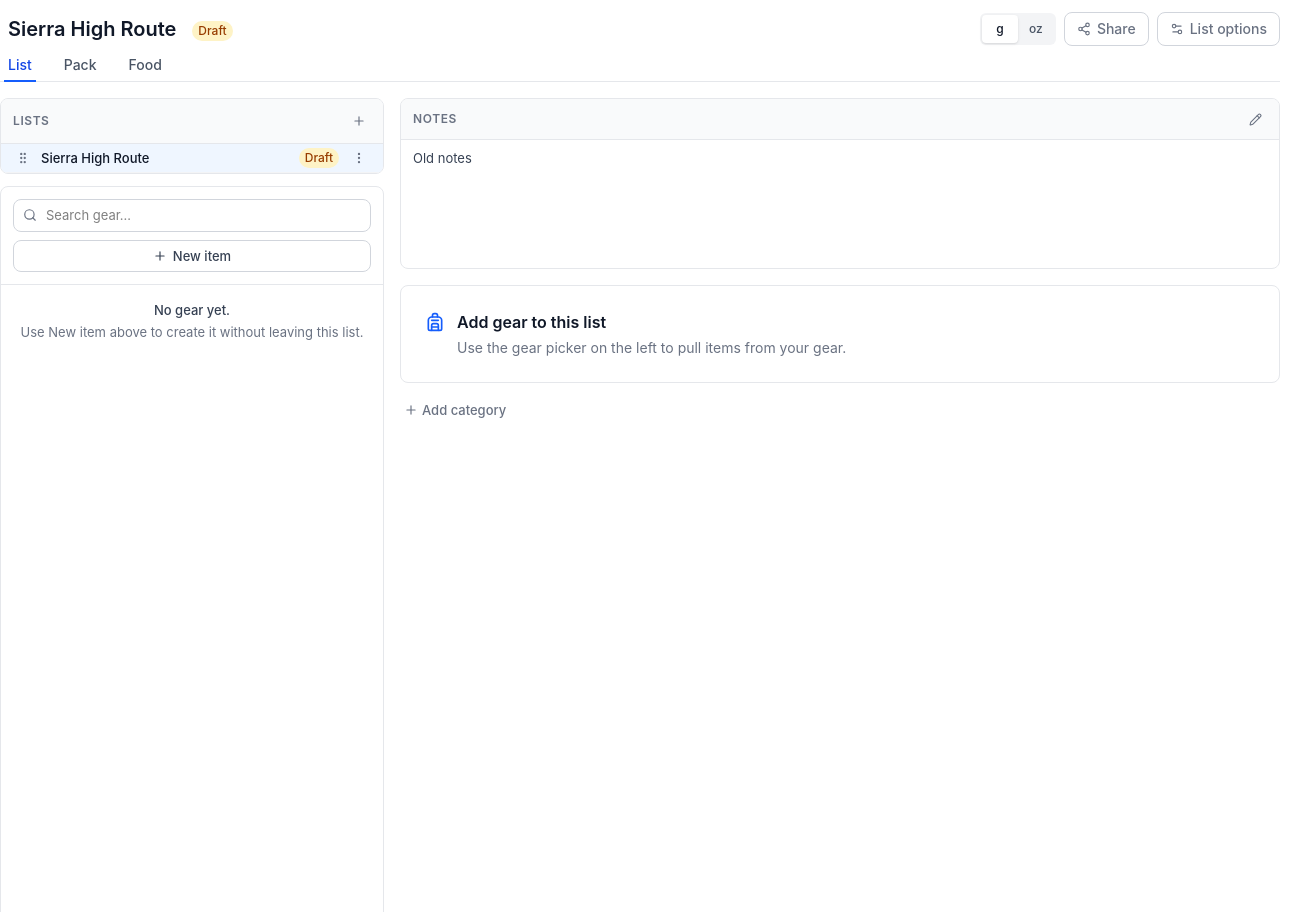
saving list notes › keeps the editor open with the typed text, and says so, when the save fails
The image size is (1292, 912).
Click the button named "Edit notes" at (1255, 119), box [1243,107,1267,131]
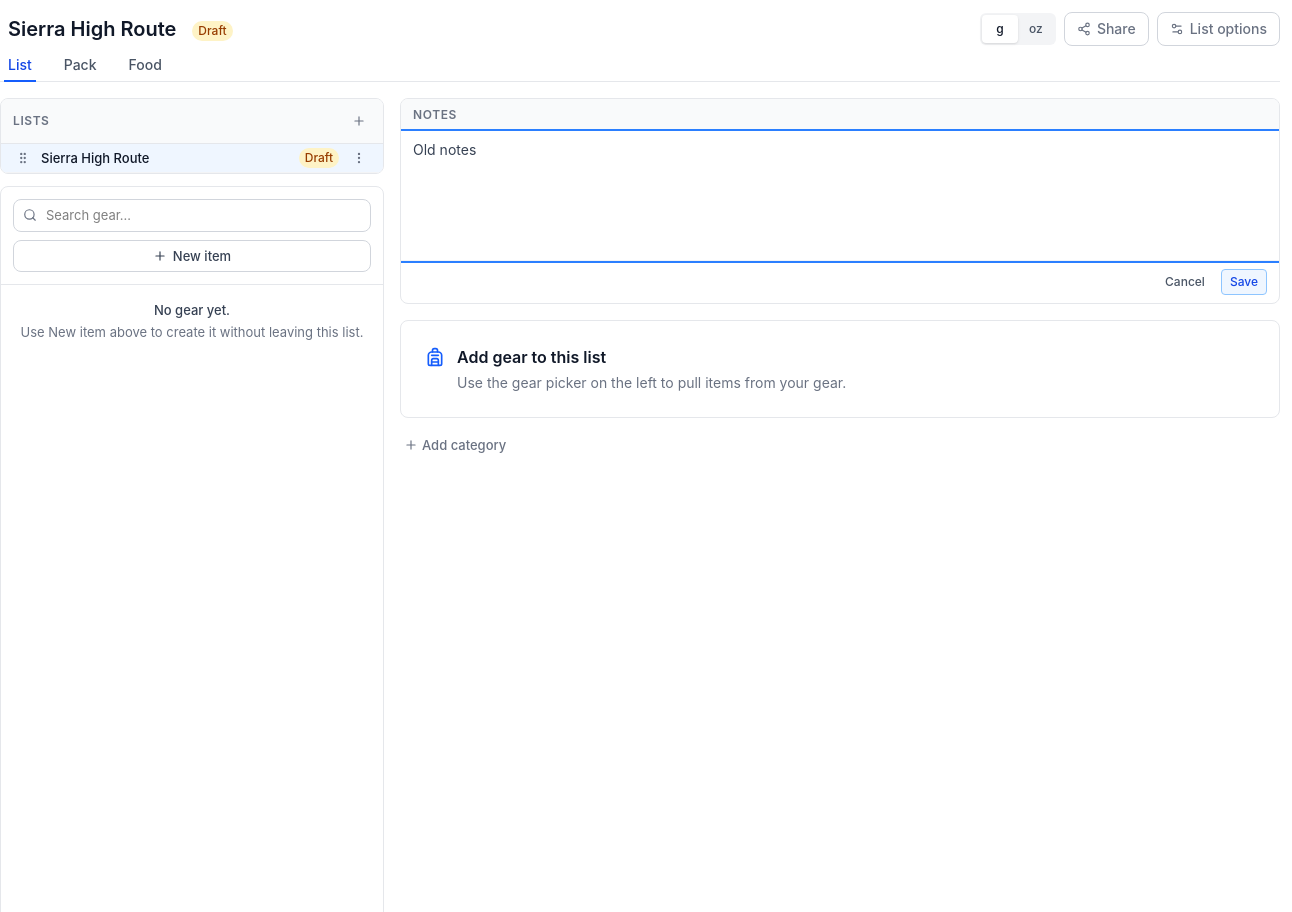
Replace the text in the text box with placeholder "Add notes about this packing list. Markdown supported." with "Permit pickup at Lone Pine" at (840, 196), box [401,132,1279,260]
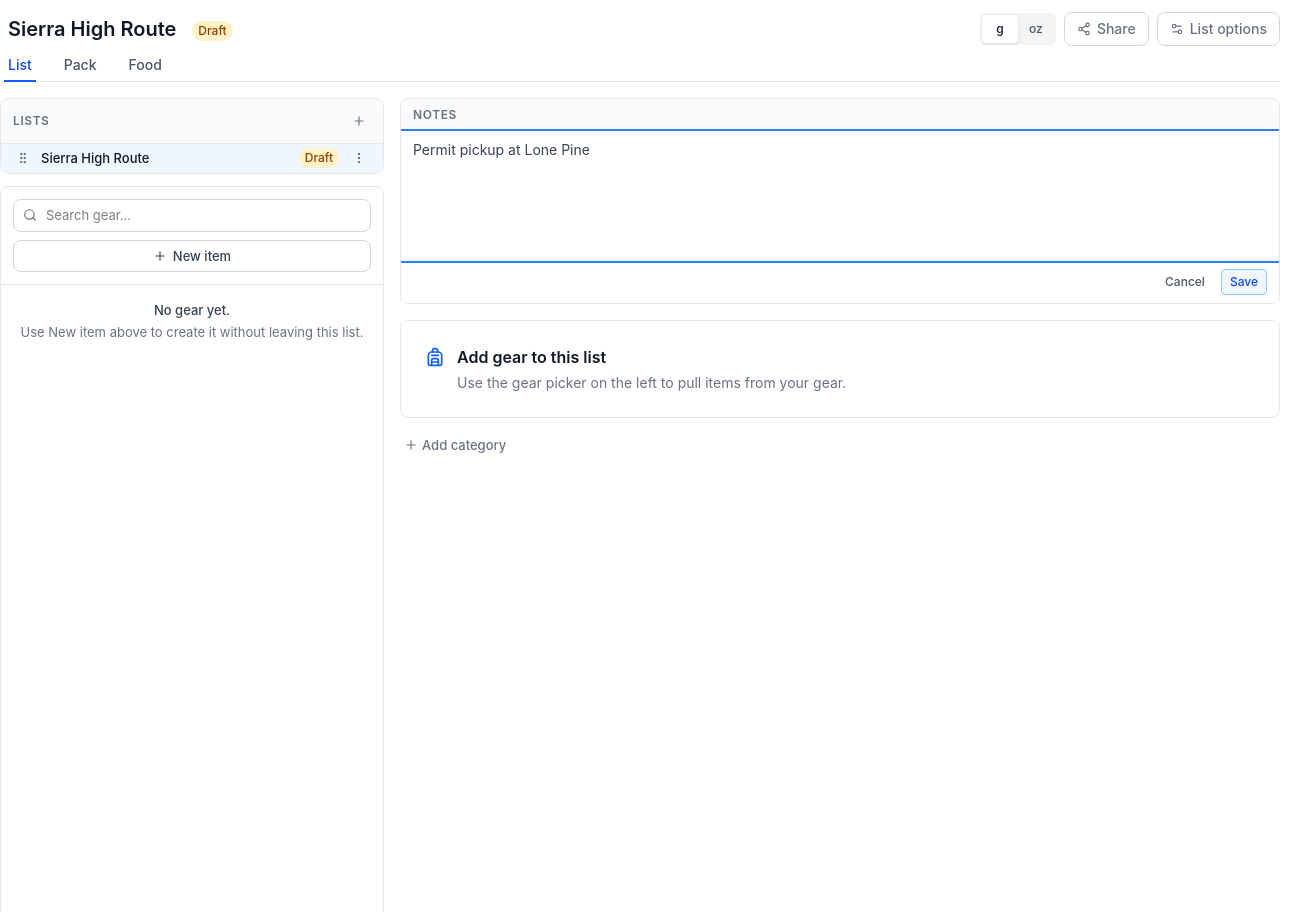
Click the button "Save" at (1244, 282), box [1221,269,1267,295]
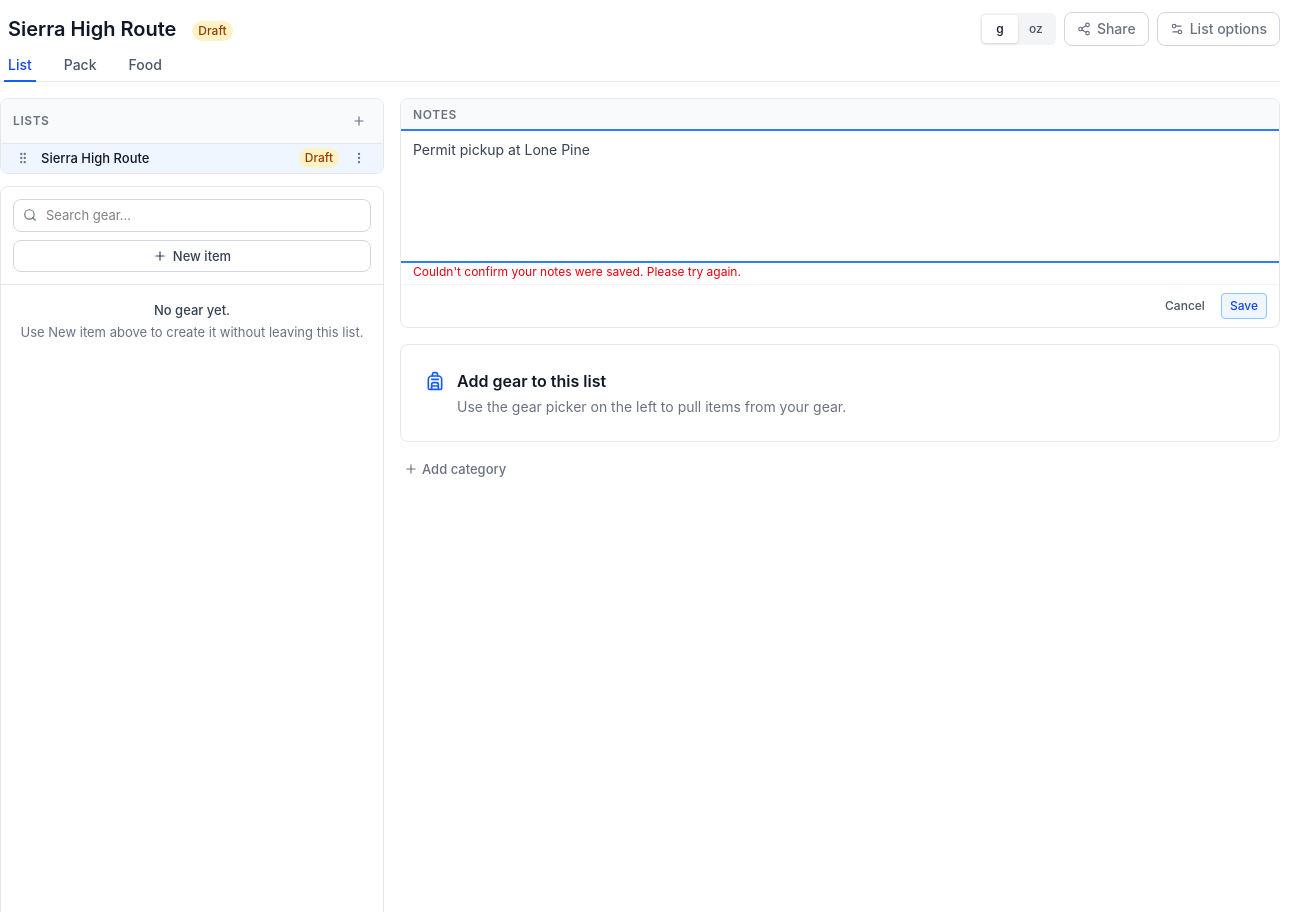
expect the message reads "Couldn't confirm your notes were saved. Please try again.": met, box [413,264,741,279]
